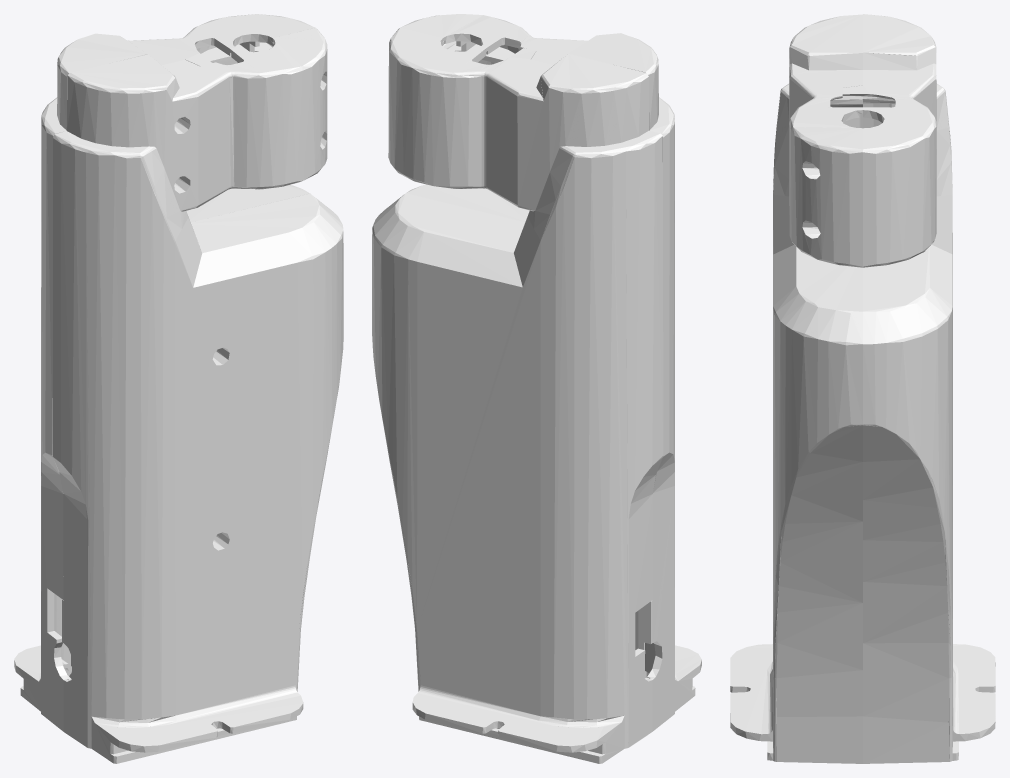
File: scara_pillar.dae
3 renders of one model, left to right at view 1: azimuth 30°, elevation 25°; view 2: azimuth 150°, elevation 25°; view 3: azimuth 270°, elevation 25°, orthographic.
Parts seen in each view (by area): view 1: PILLAR; view 2: PILLAR; view 3: PILLAR.
Part boxes in pixels (x1,y1,x2,y2): PILLAR: (14,14,343,763); PILLAR: (372,14,701,763); PILLAR: (730,14,995,763).
Bounding box in the file's own units: 0.0791 × 0.0649 × 0.178.
1 material, 1 textured.
